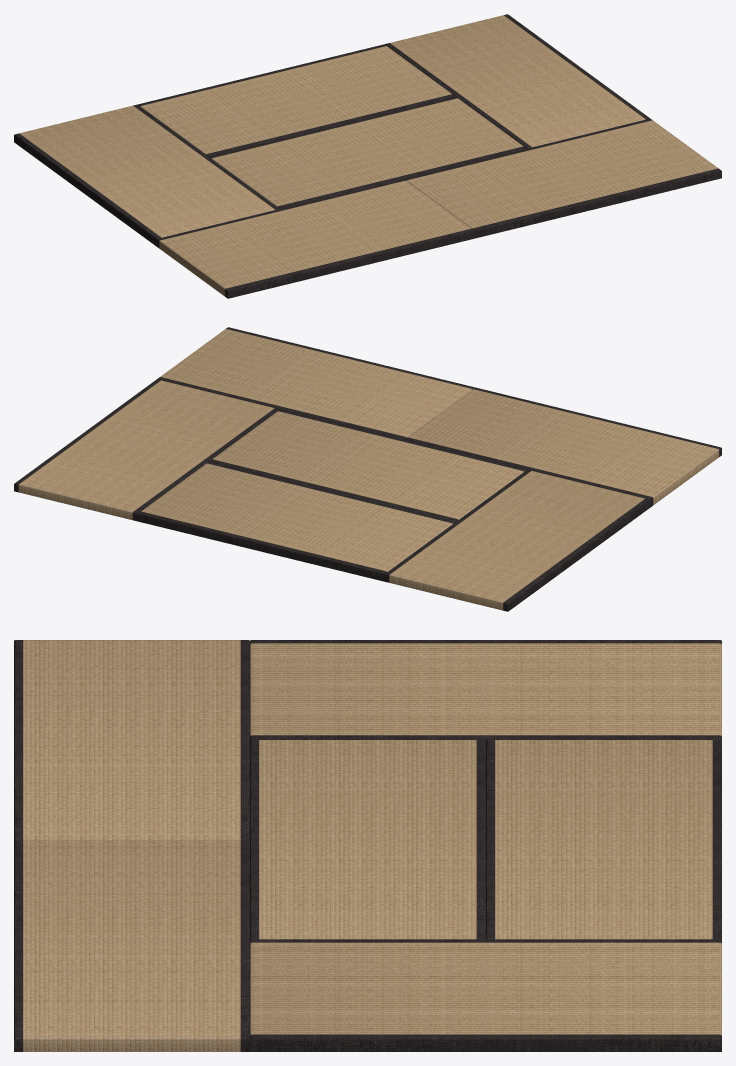
File: tatami.gltf
3 renders of one model, top to bottom at view 1: azimuth 30°, elevation 25°; view 2: azimuth 150°, elevation 25°; view 3: azimuth 270°, elevation 25°, orthographic. The views are drawn at different scales.
Visible parts, largest first — view 1: tatami_mat; view 2: tatami_mat; view 3: tatami_mat.
Part boxes in pixels (x1=…): tatami_mat: x1=14, y1=14, x2=721, y2=298; tatami_mat: x1=14, y1=327, x2=721, y2=611; tatami_mat: x1=14, y1=640, x2=721, y2=1051.
Bounding box in the file's own units: 3.2 × 0.05 × 2.4.
1 material, 1 textured.
